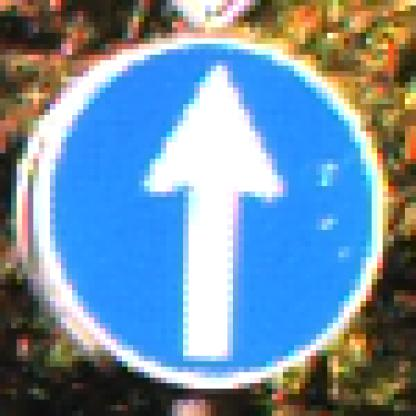AheadOnly: (40, 34, 384, 384)
